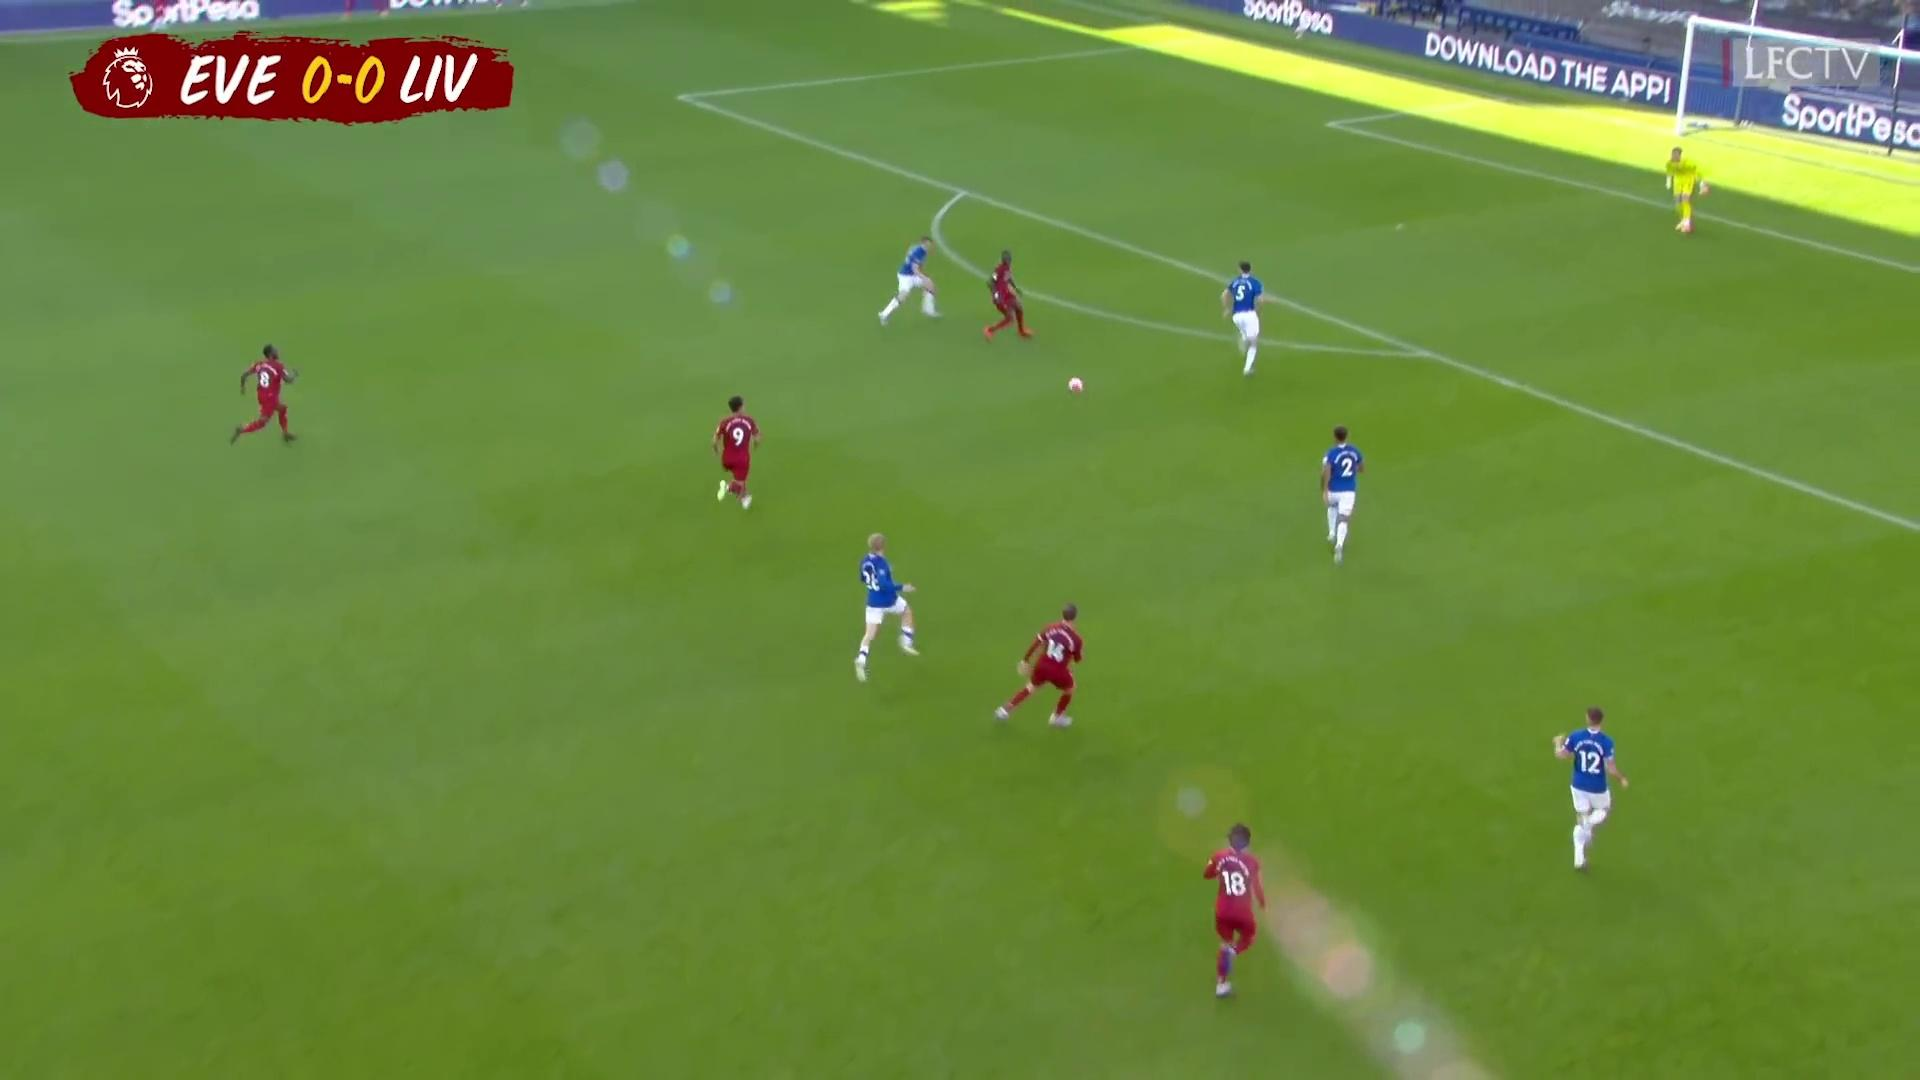ball: (1064, 374, 1087, 396)
goalkeeper: (1659, 143, 1715, 240)
player: (1552, 700, 1637, 877), (1202, 823, 1276, 1013), (995, 600, 1095, 737), (847, 531, 923, 690), (222, 339, 302, 454), (1315, 421, 1369, 570), (872, 234, 946, 334), (710, 391, 765, 514), (1224, 260, 1278, 383), (984, 242, 1044, 344)
